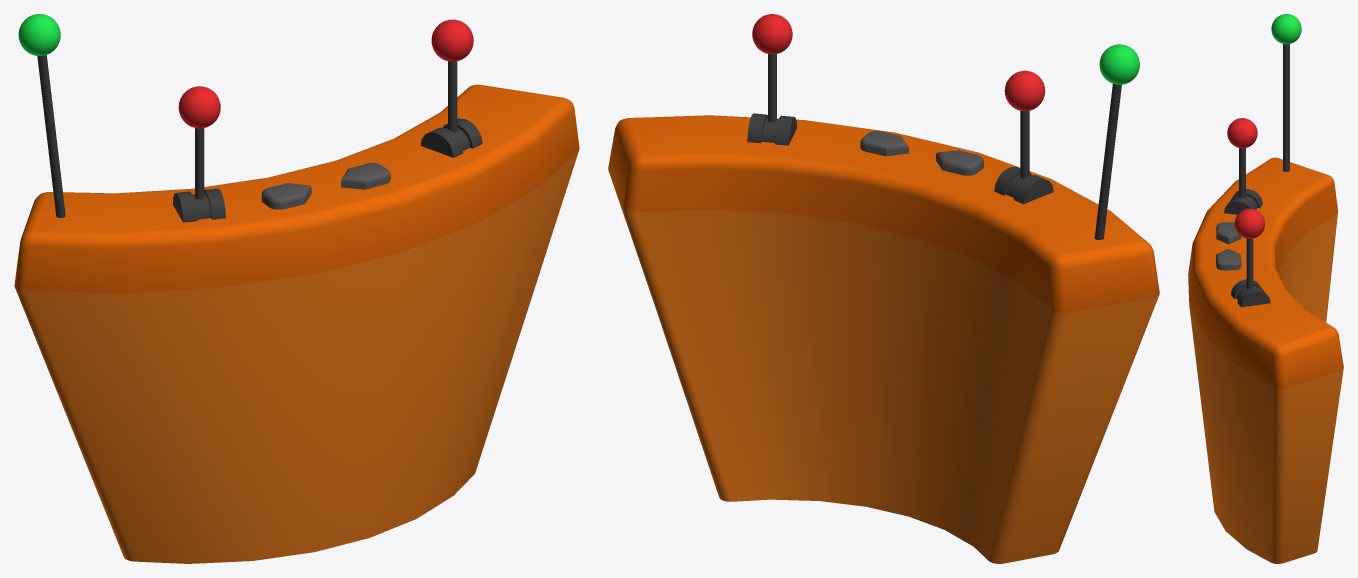
Rendered from ControlCenter.fbx.
3 views of the same model, side by side, from view 1: azimuth 30°, elevation 25°; view 2: azimuth 150°, elevation 25°; view 3: azimuth 270°, elevation 25° (orthographic). The views are drawn at different scales.
Visible parts, largest first — view 1: govde, anten, kol2, kol1, kol1alt, kol2alt, dugme2, dugme1; view 2: govde, anten, kol2, kol1, kol2alt, kol1alt, dugme2, dugme1; view 3: govde, anten, kol1, kol2, kol1alt, kol2alt, dugme1, dugme2.
Boxes of the visible parts, x1=… form: govde: x1=14, y1=84, x2=579, y2=563; anten: x1=18, y1=14, x2=65, y2=217; kol2: x1=178, y1=86, x2=220, y2=199; kol1: x1=431, y1=19, x2=473, y2=132; kol1alt: x1=420, y1=118, x2=482, y2=157; kol2alt: x1=172, y1=188, x2=225, y2=222; dugme2: x1=261, y1=183, x2=311, y2=209; dugme1: x1=341, y1=162, x2=390, y2=189; govde: x1=608, y1=115, x2=1159, y2=563; anten: x1=1094, y1=44, x2=1139, y2=239; kol2: x1=1004, y1=70, x2=1045, y2=178; kol1: x1=752, y1=14, x2=792, y2=122; kol2alt: x1=994, y1=166, x2=1053, y2=204; kol1alt: x1=747, y1=113, x2=796, y2=145; dugme2: x1=936, y1=150, x2=983, y2=175; dugme1: x1=860, y1=130, x2=908, y2=156; govde: x1=1188, y1=157, x2=1343, y2=563; anten: x1=1271, y1=14, x2=1301, y2=171; kol1: x1=1234, y1=208, x2=1264, y2=289; kol2: x1=1227, y1=118, x2=1257, y2=198; kol1alt: x1=1231, y1=279, x2=1270, y2=307; kol2alt: x1=1224, y1=189, x2=1262, y2=214; dugme1: x1=1216, y1=249, x2=1241, y2=270; dugme2: x1=1216, y1=222, x2=1241, y2=244.
Size of the model in its own units: 58.7 by 54.77 by 19.41.
